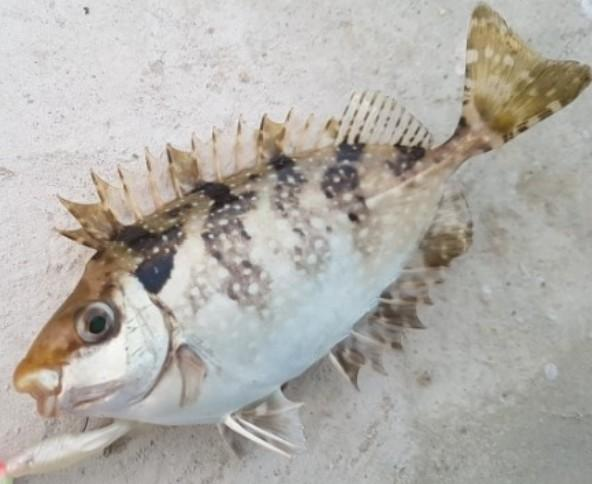fish: (13, 5, 591, 455)
